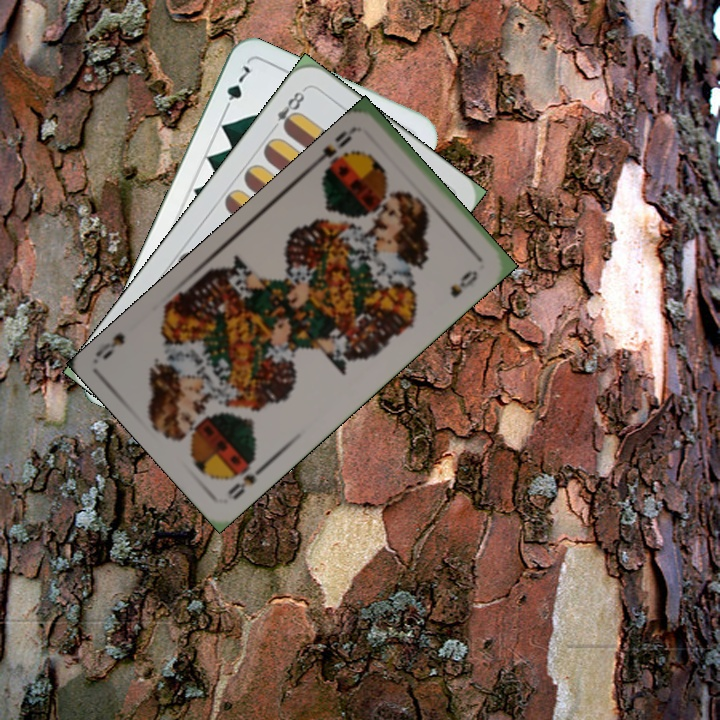E8: (267, 84, 309, 134)
G7: (219, 60, 253, 116)
SO: (310, 122, 362, 176), (224, 458, 271, 503)
